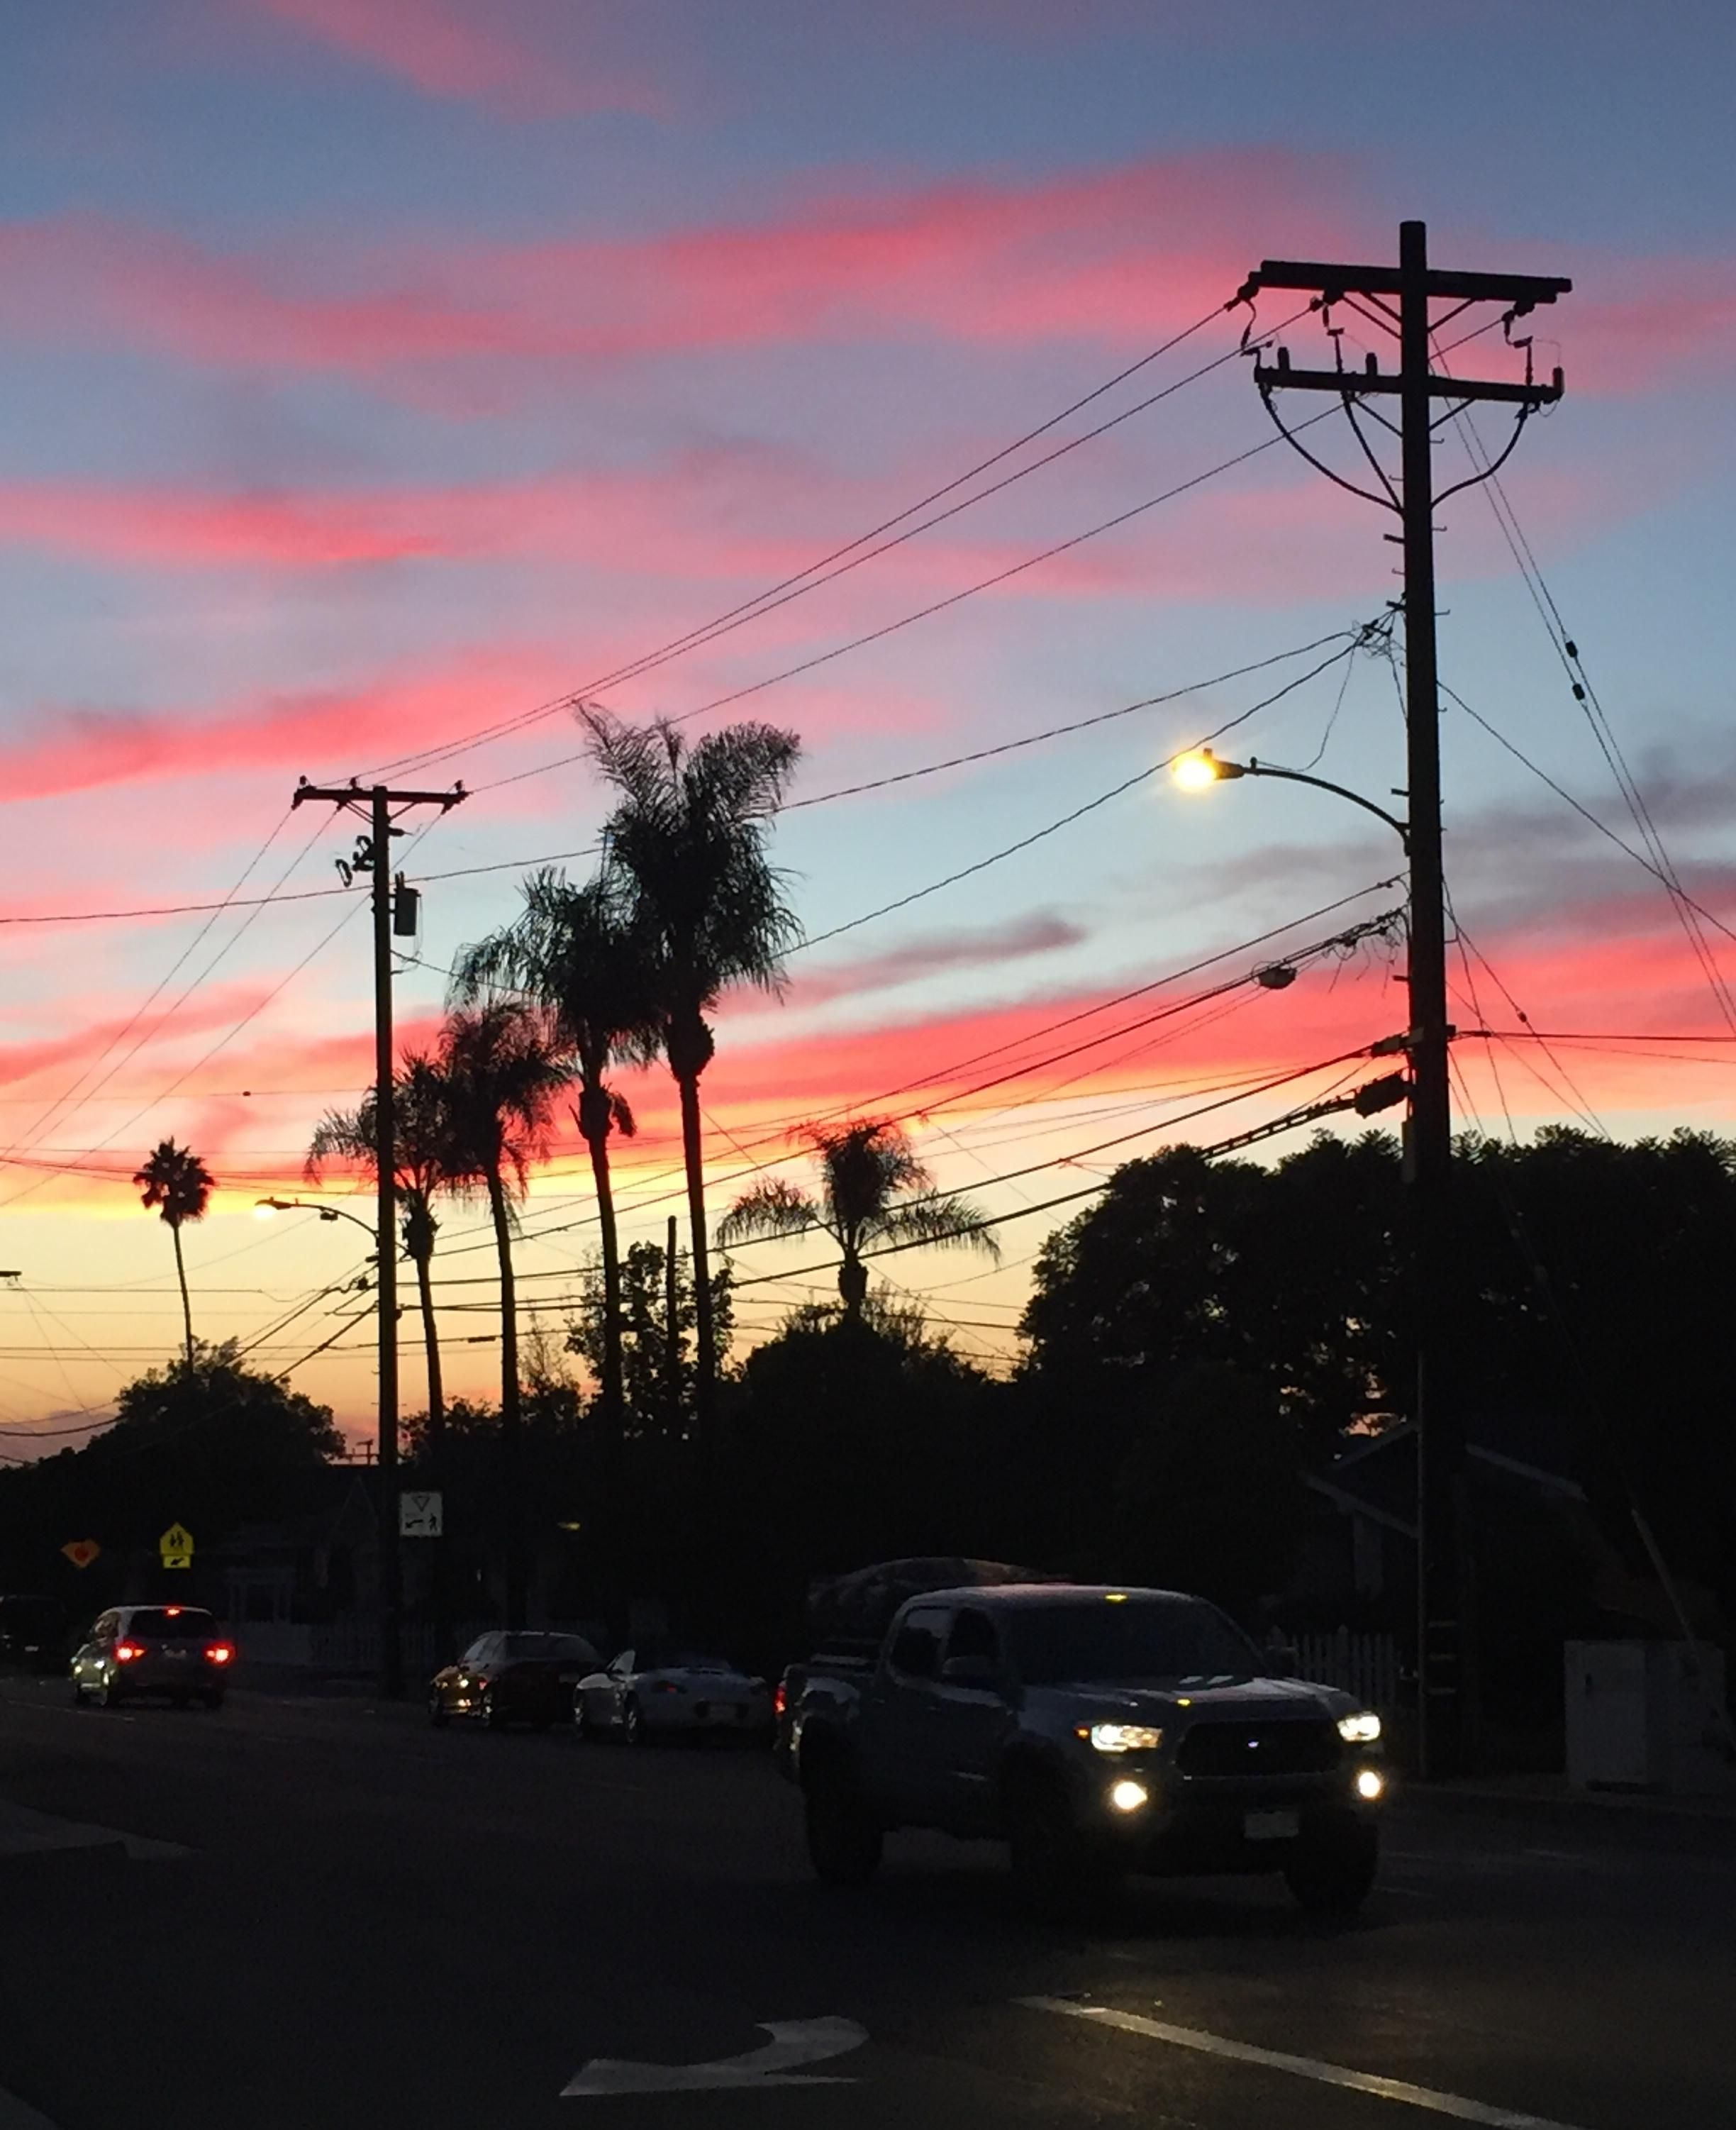utility_pole: (1210, 196, 1587, 552), (269, 745, 471, 927)
